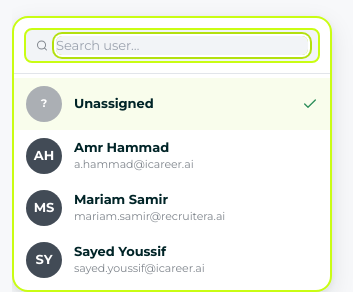
Test case: OwnerPickerPopover › filters by email
The image size is (353, 292).
(page scrolled)
Type "youssif" into the field with placeholder "Search user…" at (182, 45), box [56,36,308,55]
(page scrolled)
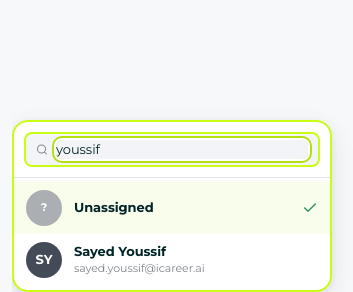
Expected: the text "Sayed Youssif" is shown, [74,244,166,260]
Result: the option "Amr Hammad" is gone
